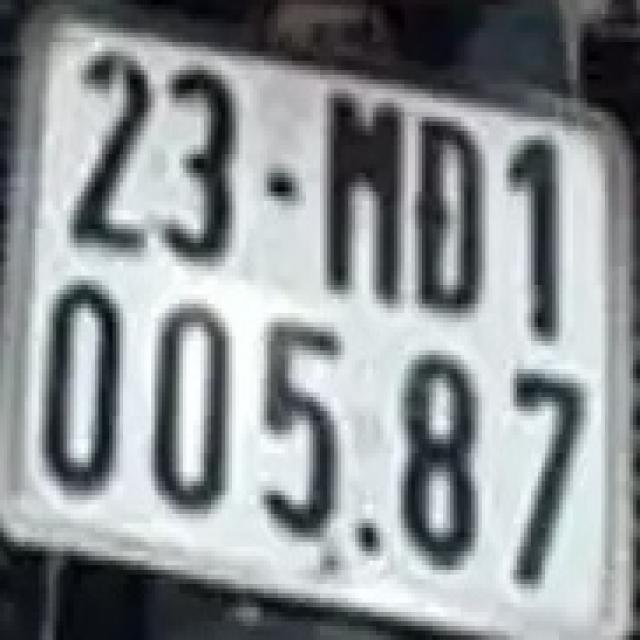0: (39, 276, 123, 495), (151, 294, 232, 514)
1: (506, 135, 563, 341)
2: (70, 47, 152, 252)
3: (162, 61, 239, 262)
5: (260, 318, 341, 537)
7: (510, 369, 584, 584)
8: (398, 346, 478, 570)
D: (415, 117, 485, 313)
M: (311, 74, 403, 304)
